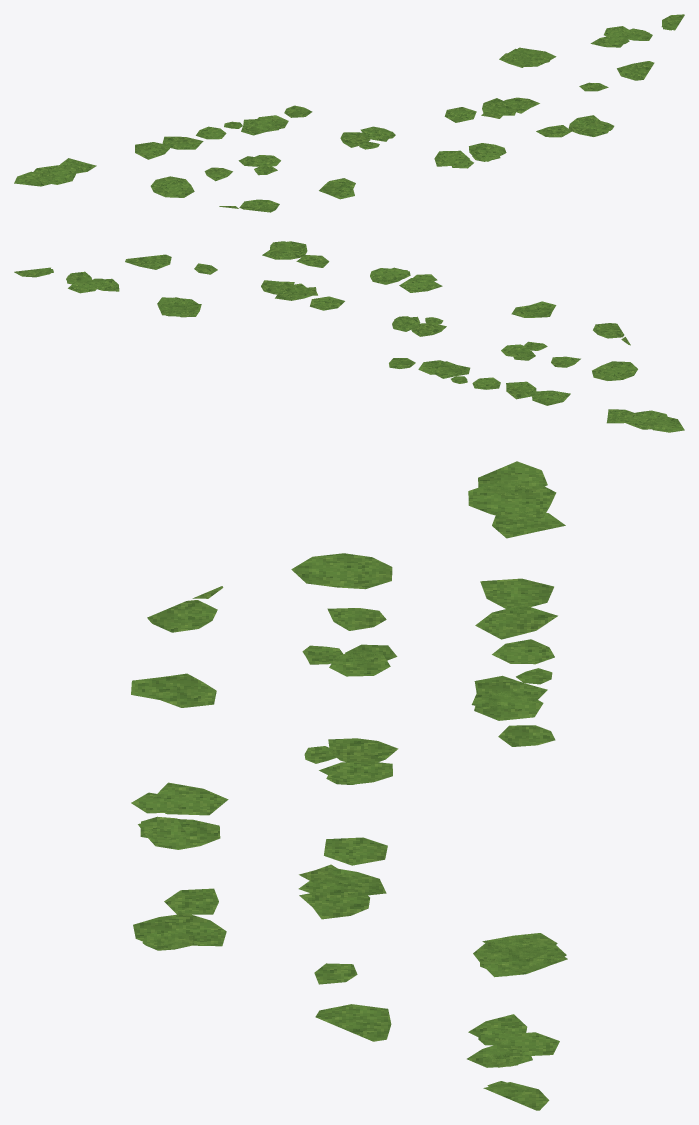
Rendered from kolej_porost_sikma_1.glb.
The picture shows the model from 3 angles, top to bottom: view 1: azimuth 30°, elevation 25°; view 2: azimuth 150°, elevation 25°; view 3: azimuth 270°, elevation 25°; orthographic projection. The views are drawn at different scales.
Parts seen in each view (by area): view 1: kolej_porost_sikma_1; view 2: kolej_porost_sikma_1; view 3: kolej_porost_sikma_1.
Part boxes in pixels (x1,y1,x2,y2): kolej_porost_sikma_1: (14, 14, 684, 212); kolej_porost_sikma_1: (14, 241, 684, 432); kolej_porost_sikma_1: (131, 461, 567, 1110).
Bounding box in the file's own units: 13.69 × 0 × 3.9.
1 material, 1 textured.
